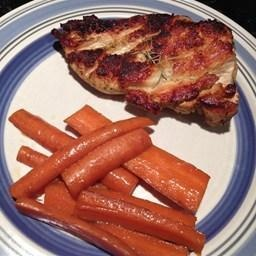background: (3, 4, 96, 102)
